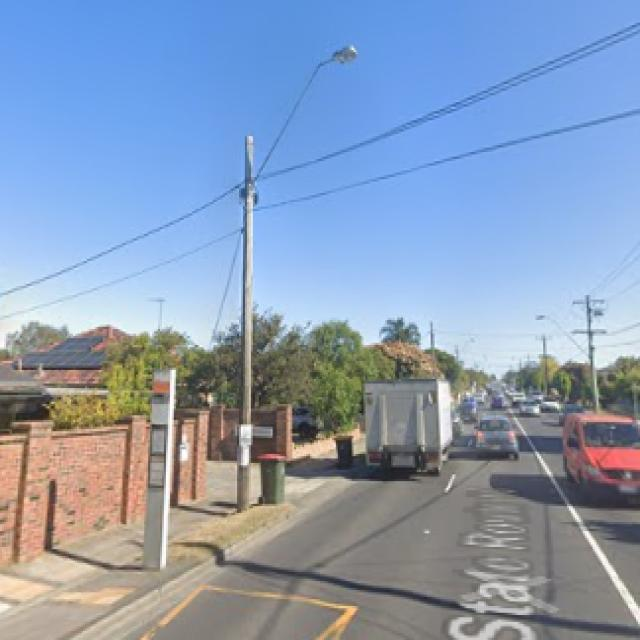crossarm: (570, 328, 608, 338), (569, 298, 606, 308)
streetlight: (252, 43, 358, 185), (534, 313, 592, 358)
timber-pole: (235, 133, 256, 510), (586, 294, 599, 413), (540, 333, 548, 396), (430, 321, 436, 378)
